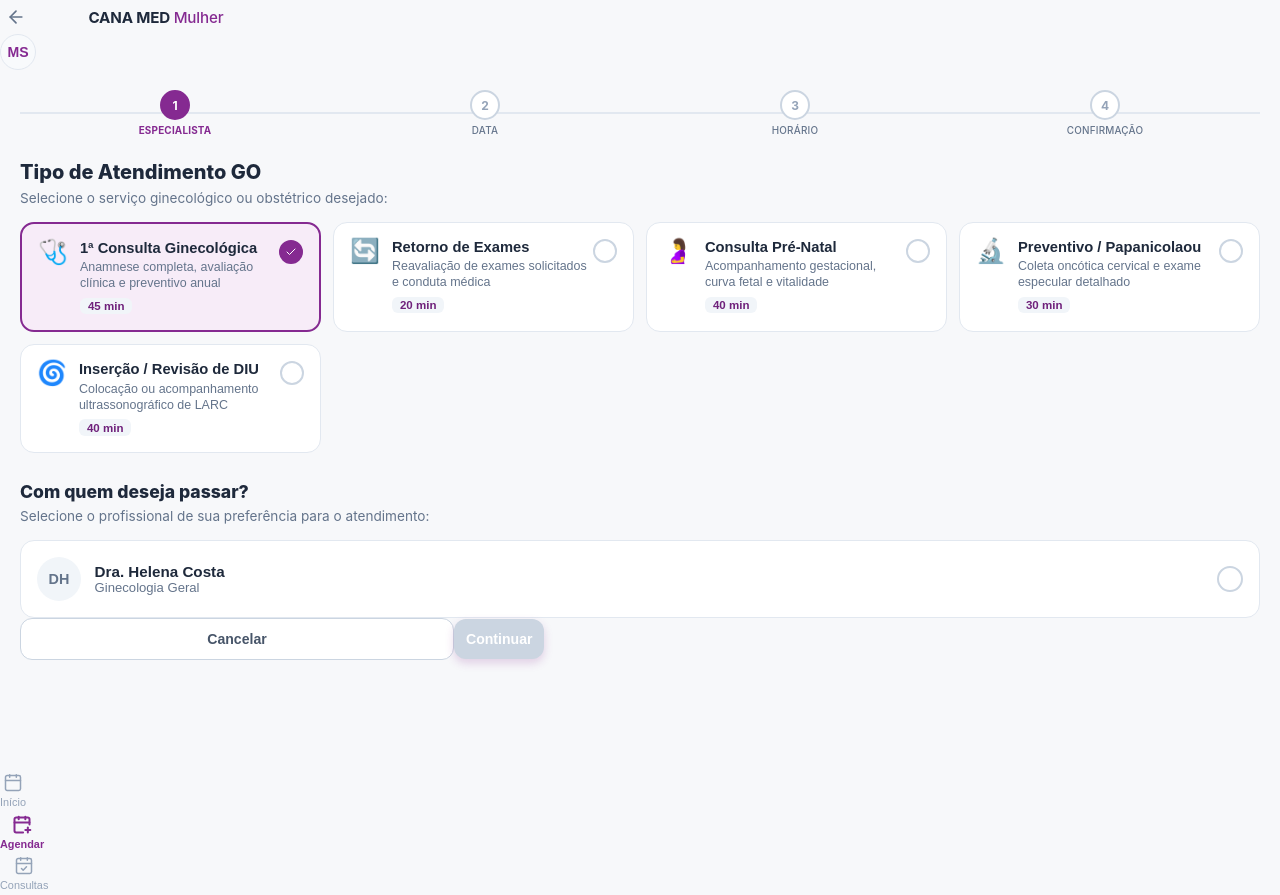
Test: PatientPortal Component › abre o modal de preparo pré-exame obrigatoriamente ao selecionar Preventivo ou Inserção de DIU
Expected: the text "Preventivo / Papanicolaou" is shown, [1018,239,1219,255]
Click the button "Preventivo / Papanicolaou".
click(1110, 277)  # box [959,222,1260,332]
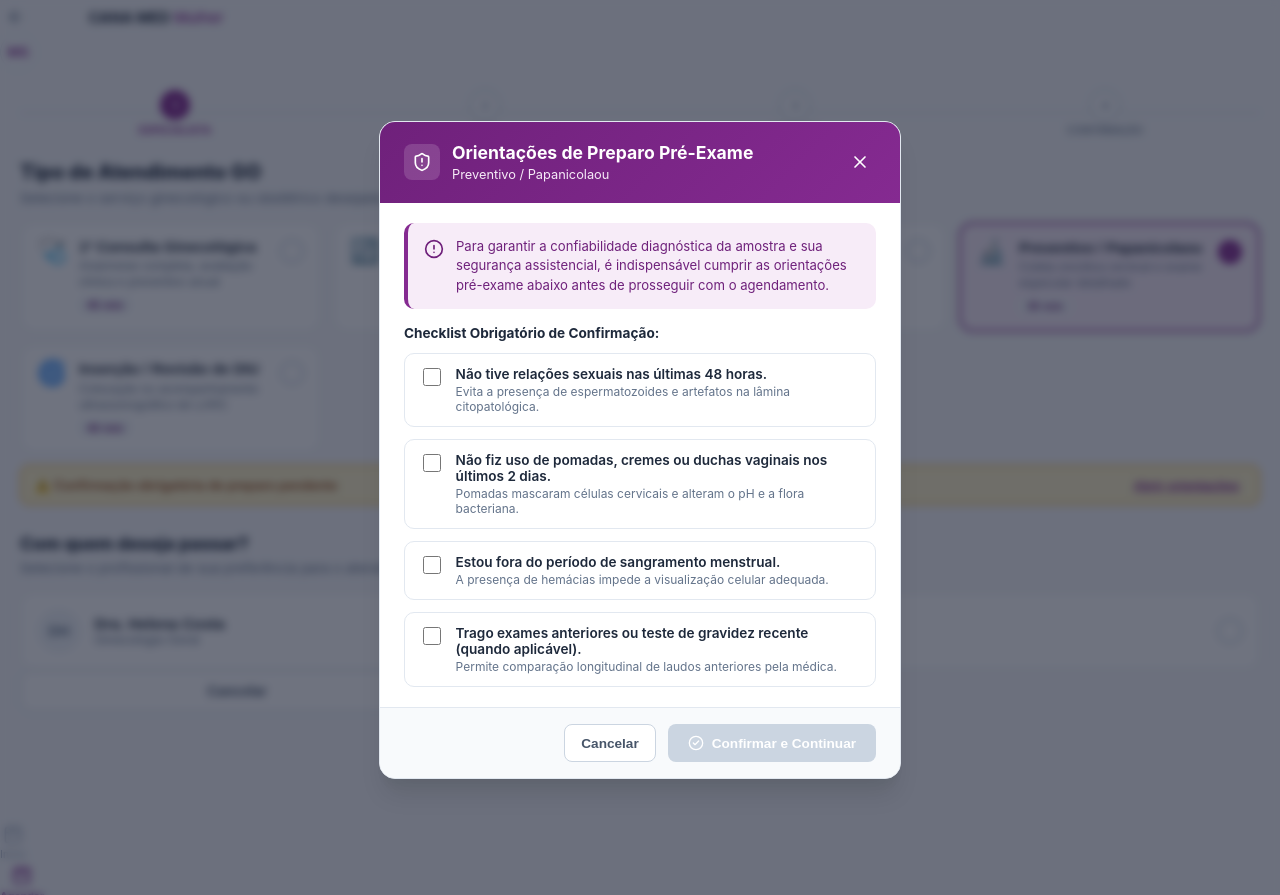
Result: the heading "Orientações de Preparo Pré-Exame" is shown at [452,142,753,163]
Result: the text "Não tive relações sexuais nas últimas 48 horas." is shown at [456,366,767,382]
Result: the text "Não fiz uso de pomadas, cremes ou duchas vaginais" is shown at [456,452,827,484]
